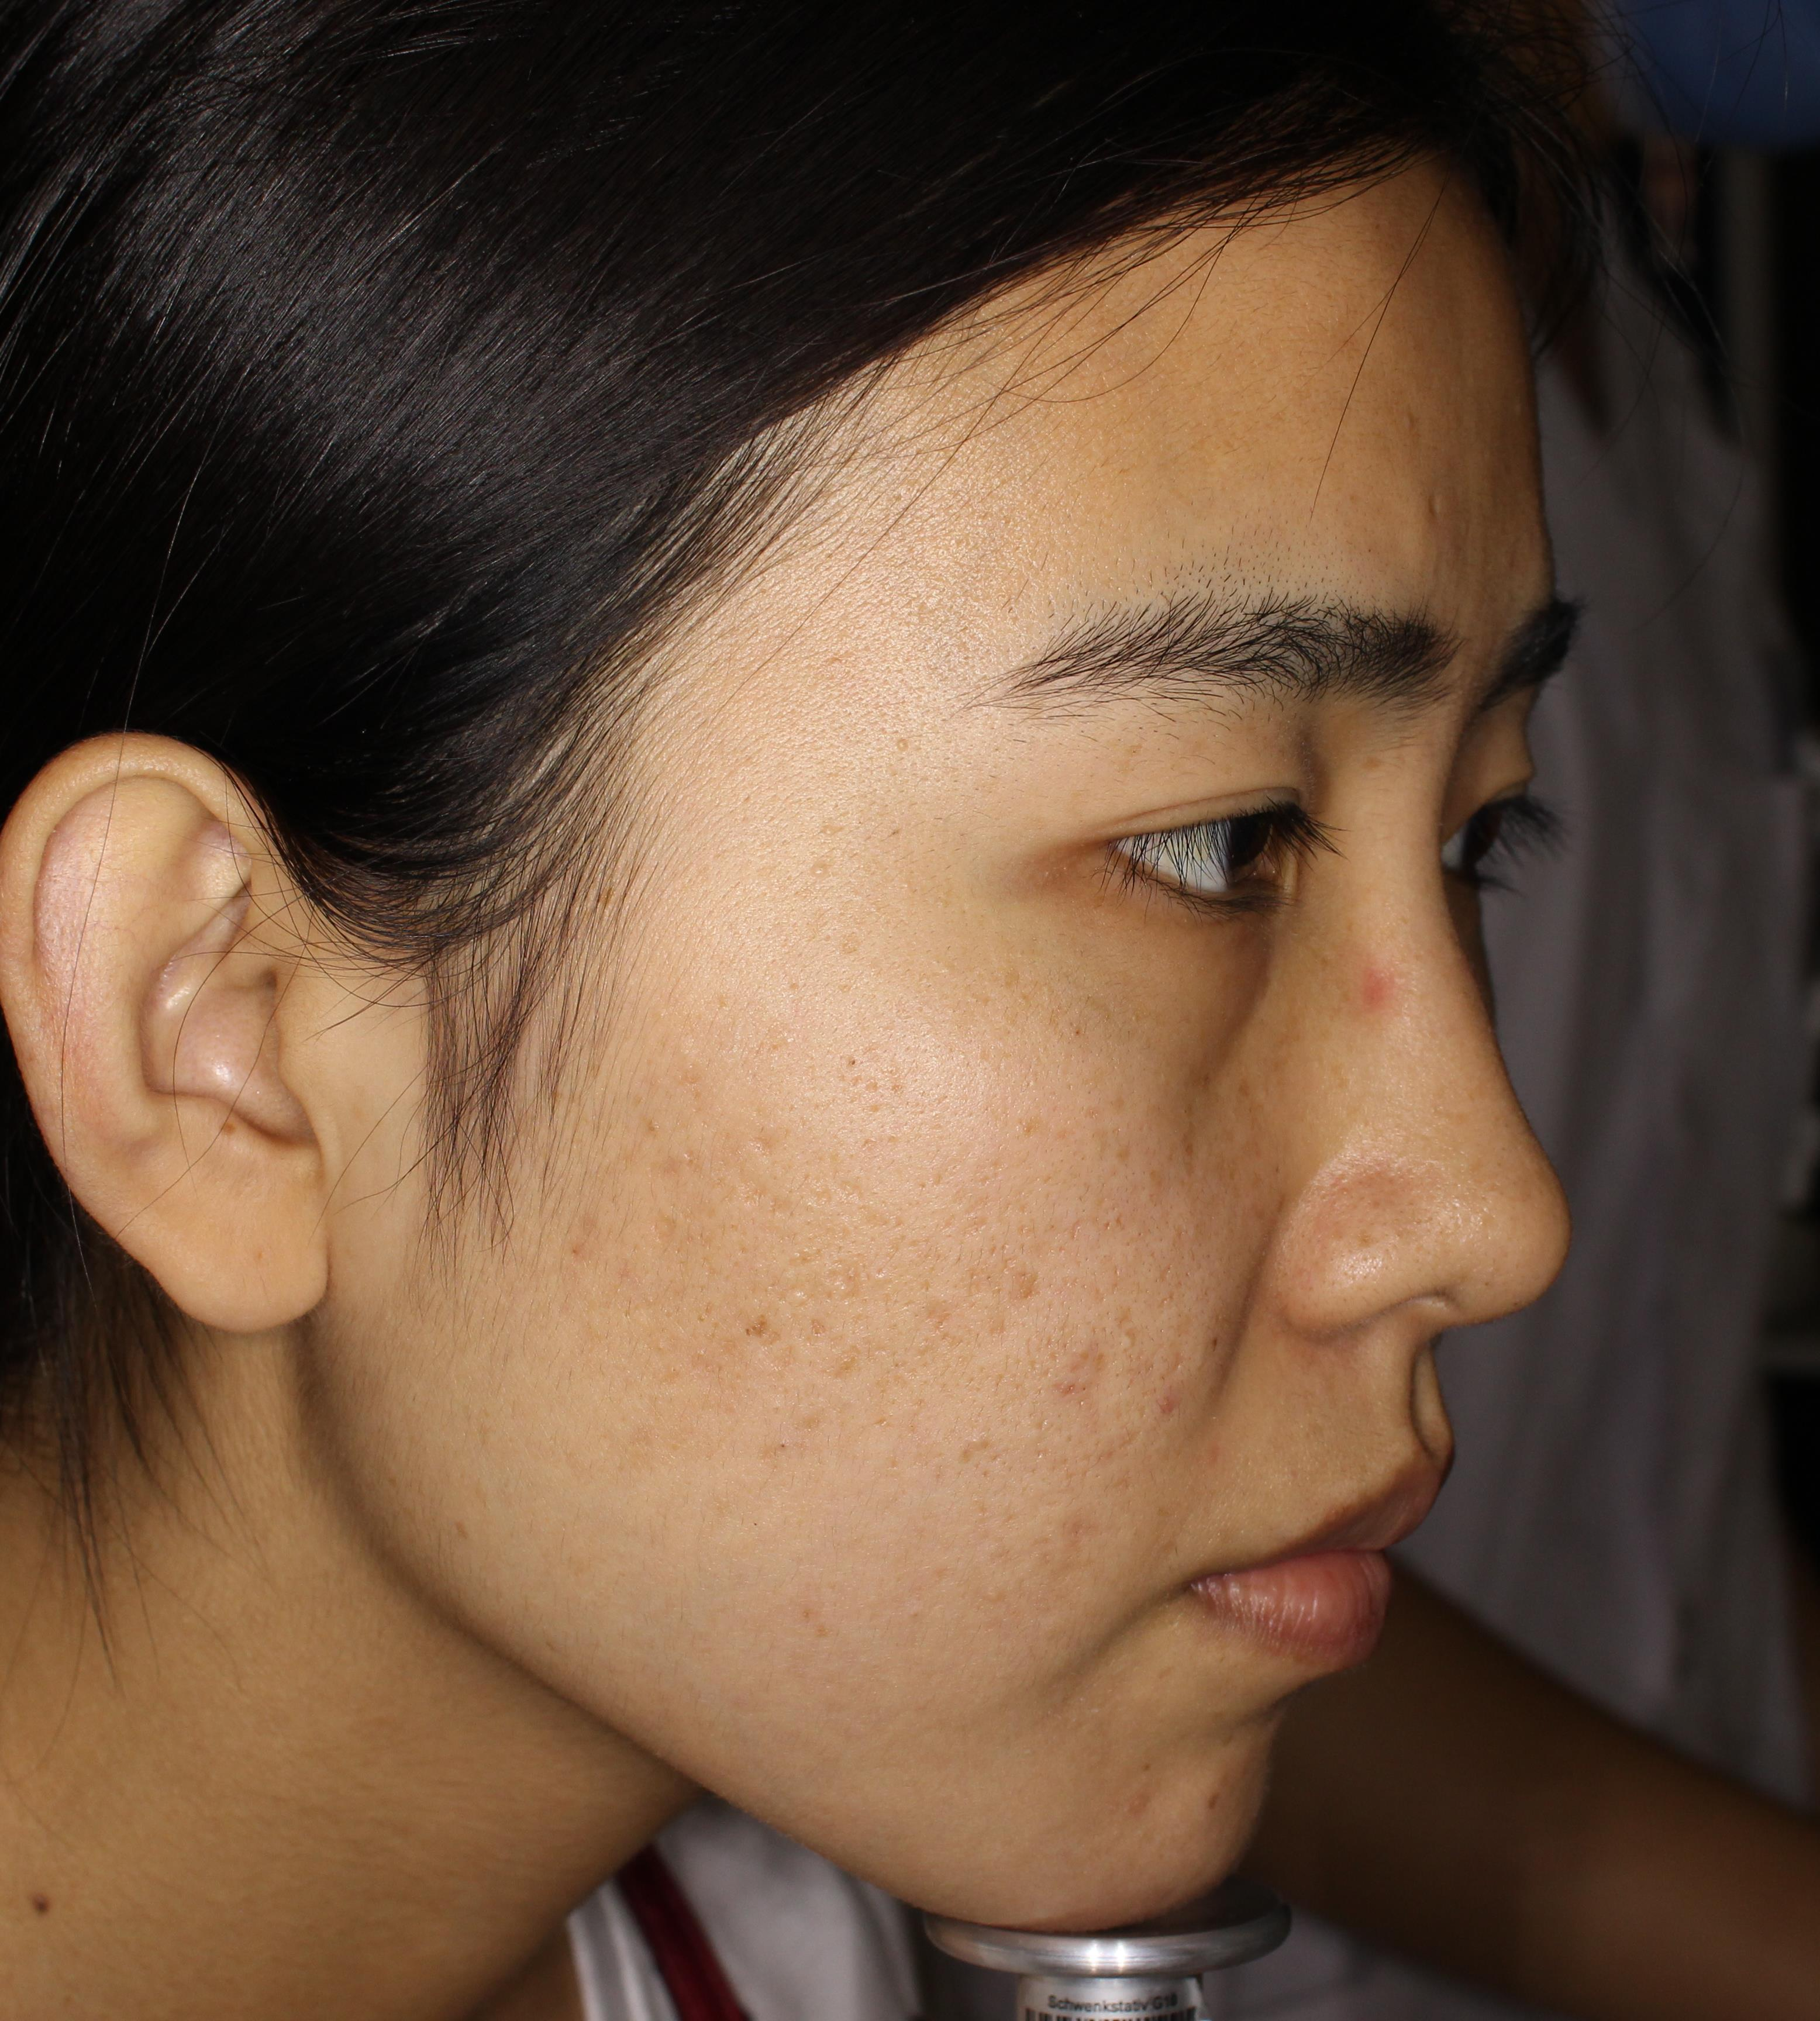fore: (1328, 953, 1441, 1038), (1149, 1338, 1175, 1436)
